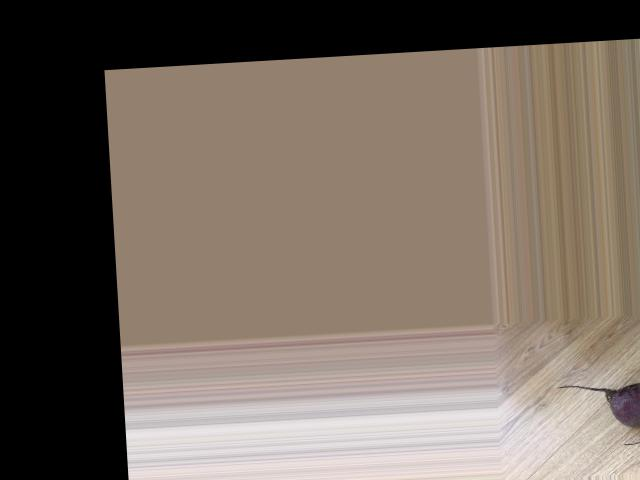beet: (556, 378, 640, 448)
